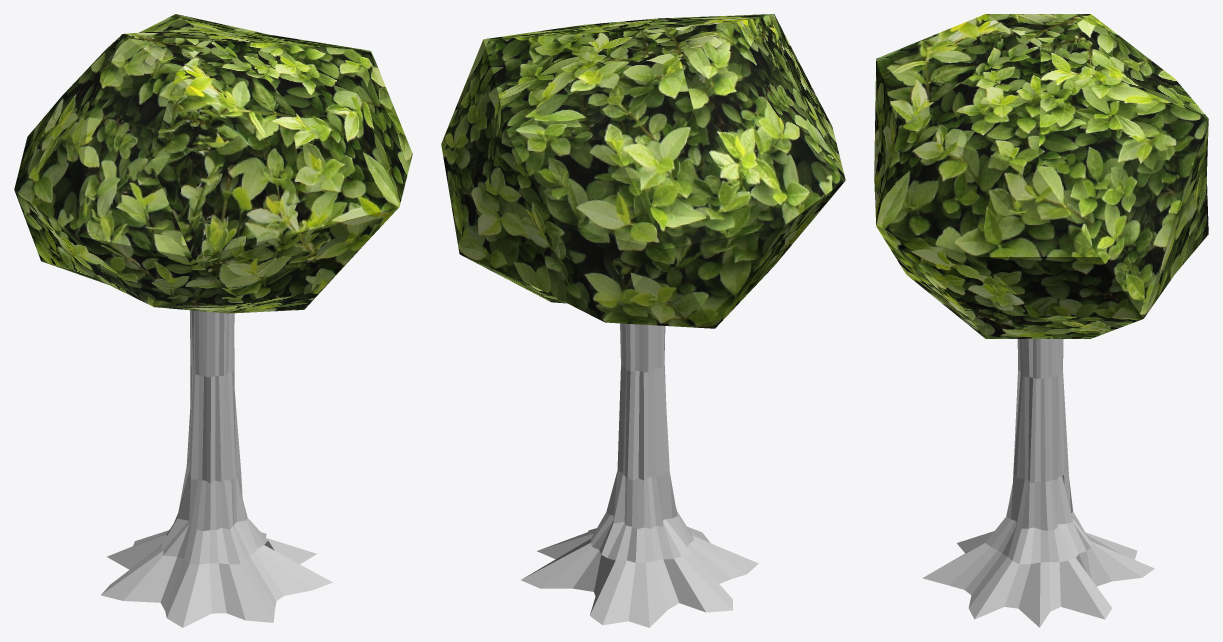
Rendered from tree_test.obj.
The picture shows the model from 3 angles, left to right: view 1: azimuth 30°, elevation 25°; view 2: azimuth 150°, elevation 25°; view 3: azimuth 270°, elevation 25°; orthographic projection. The views are drawn at different scales.
Visible parts, largest first — view 1: Icosphere, Cylinder; view 2: Icosphere, Cylinder; view 3: Icosphere, Cylinder.
Boxes of the visible parts, x1,y1,x2,y2 form: Icosphere: [14, 14, 412, 313]; Cylinder: [101, 310, 332, 627]; Icosphere: [441, 14, 845, 328]; Cylinder: [520, 323, 758, 627]; Icosphere: [874, 14, 1208, 338]; Cylinder: [922, 339, 1154, 627].
Size of the model in its own units: 2.69 by 4.15 by 2.36.
